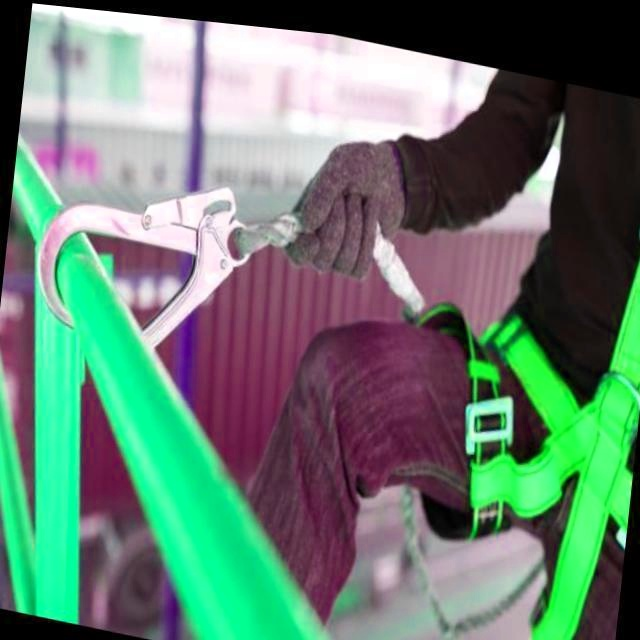safety belt: (412, 182, 629, 620)
